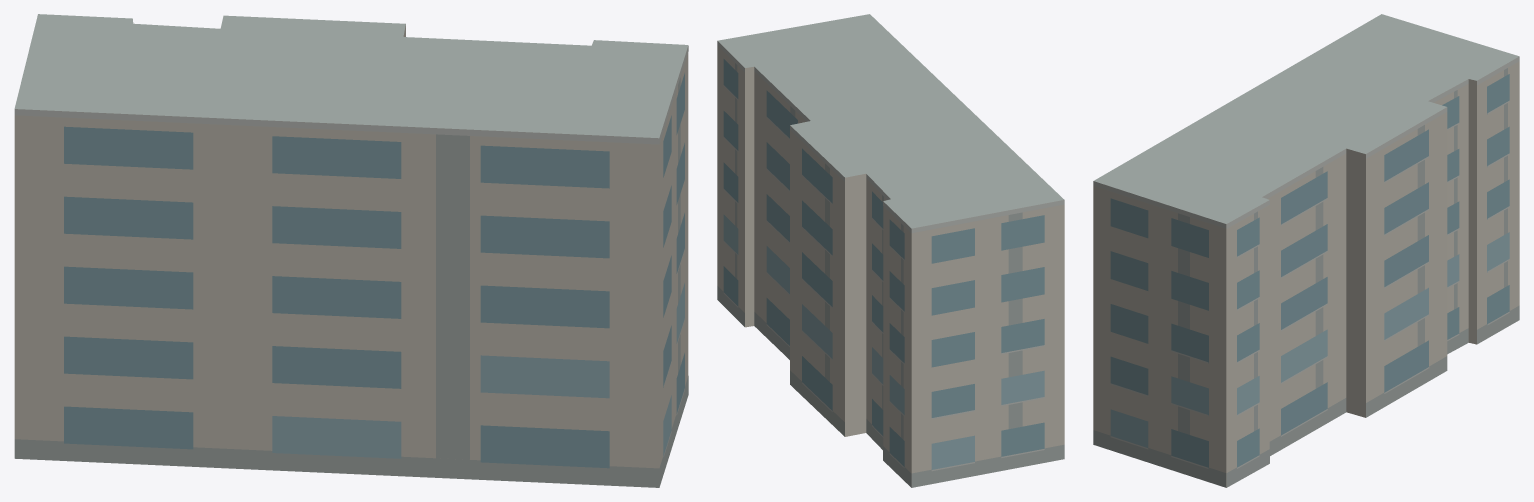
Rendered from survey-upis-32696732.glb.
The picture shows the model from 3 angles, left to right: view 1: azimuth 30°, elevation 25°; view 2: azimuth 150°, elevation 25°; view 3: azimuth 270°, elevation 25°; orthographic projection. The views are drawn at different scales.
Parts seen in each view (by area): view 1: survey-upis-32696732.tmp; view 2: survey-upis-32696732.tmp; view 3: survey-upis-32696732.tmp.
Boxes of the visible parts, x1,y1,x2,y2 form: survey-upis-32696732.tmp: (14,14,688,487); survey-upis-32696732.tmp: (717,14,1064,487); survey-upis-32696732.tmp: (1093,14,1519,487).
Bounding box in the file's own units: 22.99 × 13.45 × 19.71.
